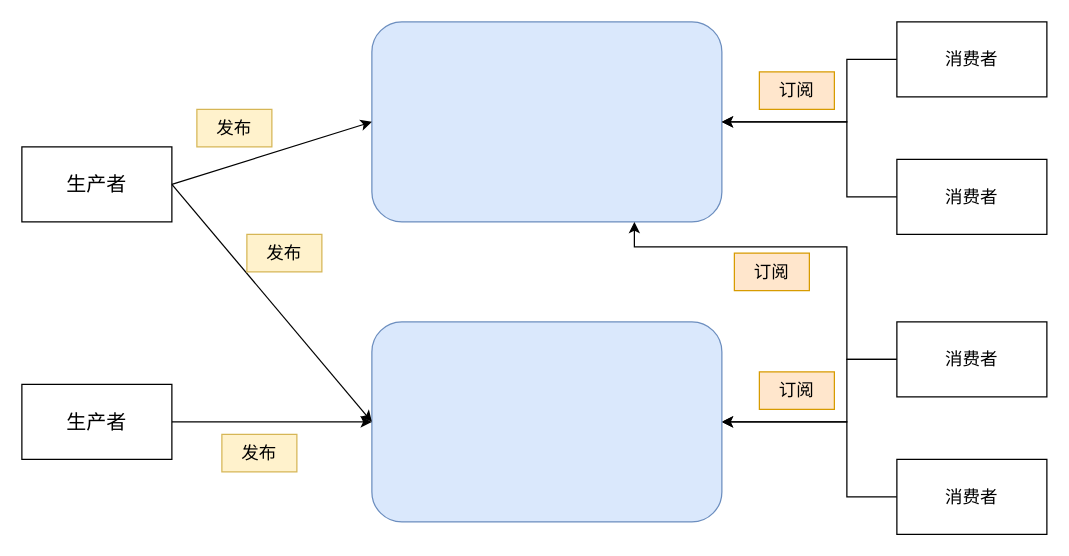
Image size: 1069x556. Some labels were removed from this diagram. The shapes that lost their labels are listed below. From the top down, each one's centre as x and y in pixels, then its label:
At point 546,121: "主题一".
At point 546,421: "主题二".
